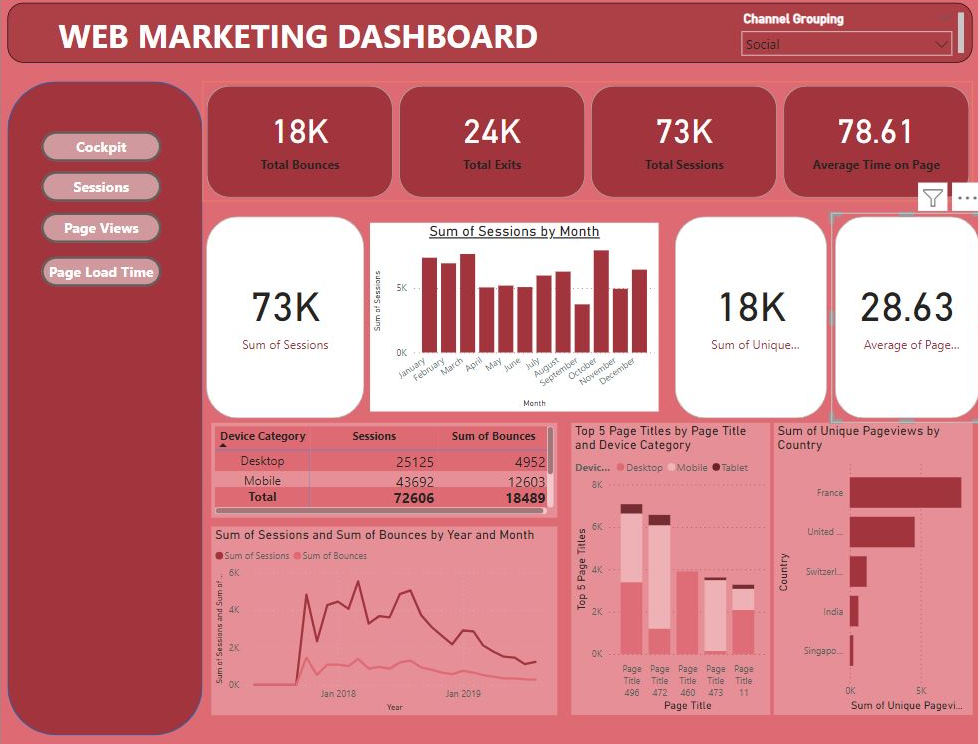

The dashboard page shown, as its layout file describes it:
{"tool":"powerbi","page":{"name":"Web Marketing Dashboard","canvas":[1300,1000],"ordinal":0},"visuals":[{"type":"textbox","box":[9.9,11.6,1276,79.3],"z":0},{"type":"shape","box":[9.9,115.7,257.9,864.5],"z":1000},{"type":"actionButton","box":[54.5,181.8,158.7,39.7],"z":2000},{"type":"actionButton","box":[54.5,234.7,158.7,39.7],"z":3000},{"type":"actionButton","box":[54.5,289.3,158.7,39.7],"z":4000},{"type":"actionButton","box":[54.5,347.1,158.7,39.7],"z":5000},{"type":"cardVisual","fields":{"Data":["Sum(Web Marketing_Migrated Data.Bounces)","Sum(Web Marketing_Migrated Data.Exits)","Sum(Web Marketing_Migrated Data.Sessions)","Avg(Web Marketing_Migrated Data.Time on Page)"]},"box":[267.8,115.7,1018.2,158.7],"z":6000},{"type":"cardVisual","fields":{"Data":["Sum(Web Marketing_Migrated Data.Sessions)"]},"box":[267.8,289.3,219.8,277.7],"z":7000},{"type":"cardVisual","fields":{"Data":["Sum(Web Marketing_Migrated Data.Unique Pageviews)"]},"box":[887.6,289.3,211.6,277.7],"z":8000},{"type":"cardVisual","fields":{"Data":["Avg(Web Marketing_Migrated Data.Page Load Time)"]},"box":[1099.2,289.3,201.7,277.7],"z":9000},{"type":"clusteredColumnChart","fields":{"Category":["Web Marketing_Migrated Data.Date.Variation.Date Hierarchy.Month"],"Y":["Sum(Web Marketing_Migrated Data.Sessions)"]},"box":[489.3,302.5,381.8,249.6],"z":10000},{"type":"pivotTable","fields":{"Rows":["Web Marketing_Migrated Data.Device Category"],"Values":["Sum(Web Marketing_Migrated Data.Sessions)","Sum(Web Marketing_Migrated Data.Bounces)"]},"box":[279.3,566.9,457.9,125.6],"z":11000},{"type":"lineChart","fields":{"Category":["Web Marketing_Migrated Data.Date.Variation.Date Hierarchy.Year","Web Marketing_Migrated Data.Date.Variation.Date Hierarchy.Month"],"Y":["Sum(Web Marketing_Migrated Data.Sessions)","Sum(Web Marketing_Migrated Data.Bounces)"]},"box":[279.3,704.1,457.9,249.6],"z":12000},{"type":"columnChart","fields":{"Category":["Web Marketing_Migrated Data.Page Title"],"Y":["Sum(Web Marketing_Migrated Data.Unique Pageviews)"],"Series":["Web Marketing_Migrated Data.Device Category"]},"box":[755.4,566.9,262.8,386.8],"z":13000},{"type":"clusteredBarChart","fields":{"Category":["Web Marketing_Migrated Data.Country"],"Y":["Sum(Web Marketing_Migrated Data.Unique Pageviews)"]},"box":[1023.1,566.9,262.8,386.8],"z":14000},{"type":"slicer","fields":{"Values":["Web Marketing_Migrated Data.Channel Grouping"]},"box":[970.2,18.2,299.2,66.1],"z":15000}]}

Visuals, with their boxes in screenshot pixels (x1, y1, x2, y2), scaled from the page's 1300x1000 canvas onto the 978x744 screenshot:
textbox: (7,9,967,68)
shape: (7,86,201,729)
actionButton: (41,135,160,165)
actionButton: (41,175,160,204)
actionButton: (41,215,160,245)
actionButton: (41,258,160,288)
cardVisual - Sum(Web Marketing_Migrated Data.Bounces) x Sum(Web Marketing_Migrated Data.Exits): (201,86,967,204)
cardVisual - Sum(Web Marketing_Migrated Data.Sessions): (201,215,367,422)
cardVisual - Sum(Web Marketing_Migrated Data.Unique Pageviews): (668,215,827,422)
cardVisual - Avg(Web Marketing_Migrated Data.Page Load Time): (827,215,977,422)
clusteredColumnChart - Web Marketing_Migrated Data.Date.Variation.Date Hierarchy.Month x Sum(Web Marketing_Migrated Data.Sessions): (368,225,655,411)
pivotTable - Web Marketing_Migrated Data.Device Category x Sum(Web Marketing_Migrated Data.Sessions): (210,422,555,515)
lineChart - Web Marketing_Migrated Data.Date.Variation.Date Hierarchy.Year x Web Marketing_Migrated Data.Date.Variation.Date Hierarchy.Month: (210,524,555,710)
columnChart - Web Marketing_Migrated Data.Page Title x Sum(Web Marketing_Migrated Data.Unique Pageviews): (568,422,766,710)
clusteredBarChart - Web Marketing_Migrated Data.Country x Sum(Web Marketing_Migrated Data.Unique Pageviews): (770,422,967,710)
slicer - Web Marketing_Migrated Data.Channel Grouping: (730,14,955,63)
